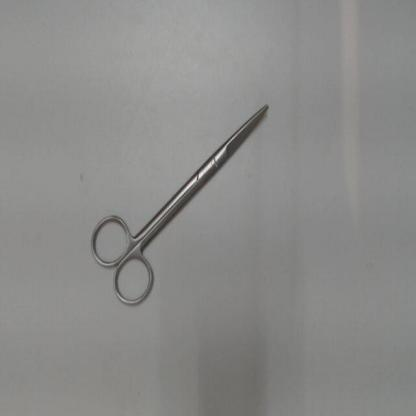Curved Mayo Scissors: (83, 95, 273, 314)
